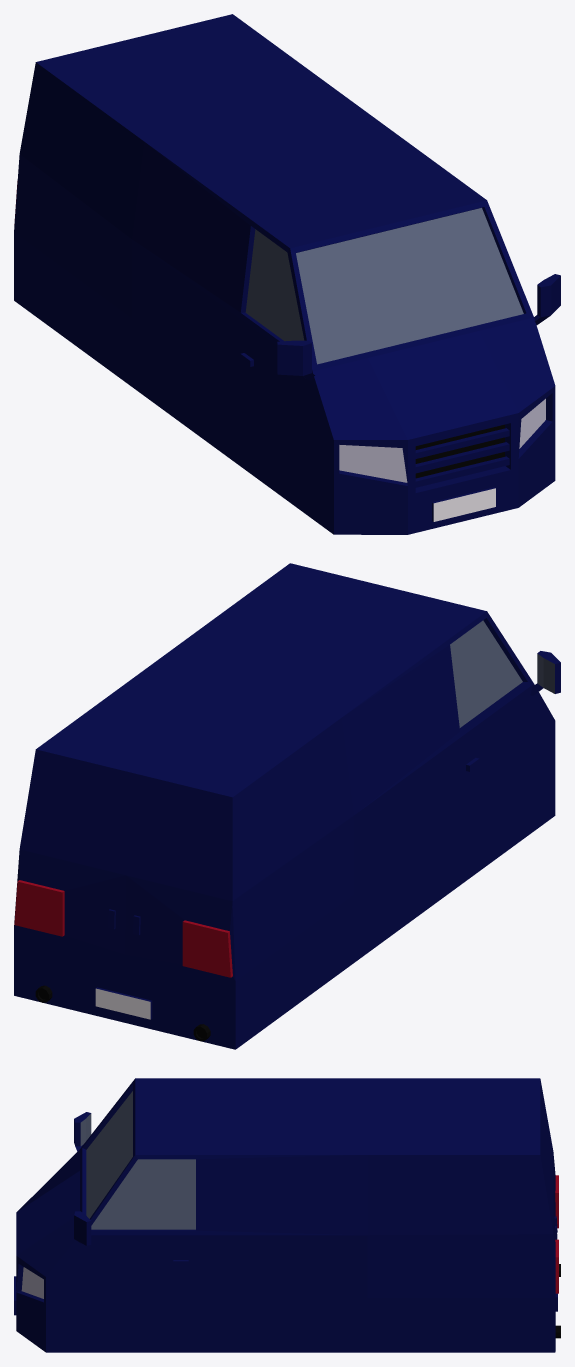
The model's file is Van.glb.
3 views of the same model, one above another, from view 1: azimuth 30°, elevation 25°; view 2: azimuth 150°, elevation 25°; view 3: azimuth 270°, elevation 25° (orthographic). The views are drawn at different scales.
Visible parts, largest first — view 1: Van; view 2: Van; view 3: Van.
Part boxes in pixels (<box>): Van: <box>14,14,560,534</box>; Van: <box>14,563,560,1049</box>; Van: <box>14,1078,560,1352</box>.
Size of the model in its own units: 281 by 251 by 591.
